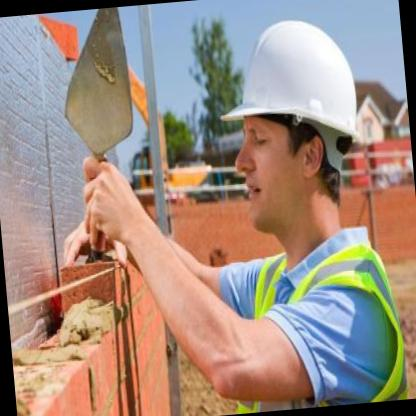bee: (205, 0, 382, 264)
